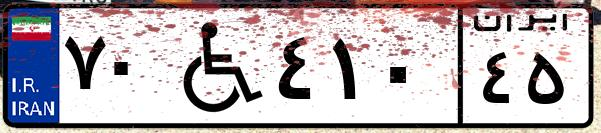0: (385, 28, 445, 110), (110, 28, 158, 98)
1: (330, 28, 385, 110)
4: (270, 28, 330, 110), (475, 38, 525, 113)
5: (525, 38, 570, 115)
7: (57, 26, 110, 100)
ژ (معلولین و جانبازان): (158, 12, 270, 120)
